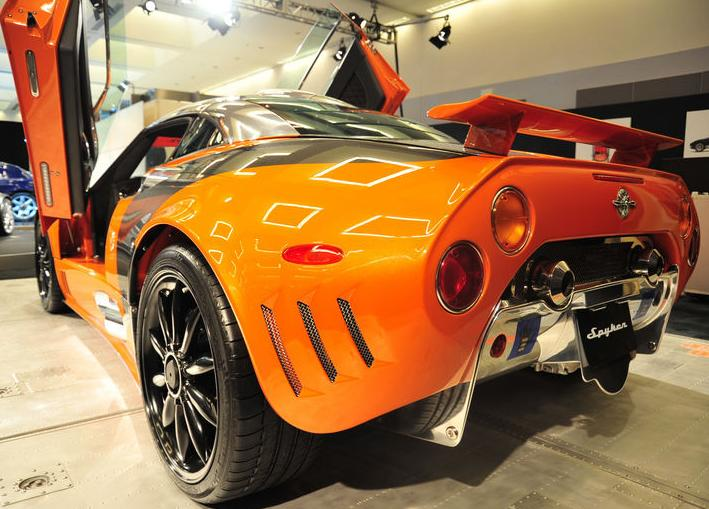back_view: (288, 132, 706, 420)
backlight: (405, 181, 541, 322)
